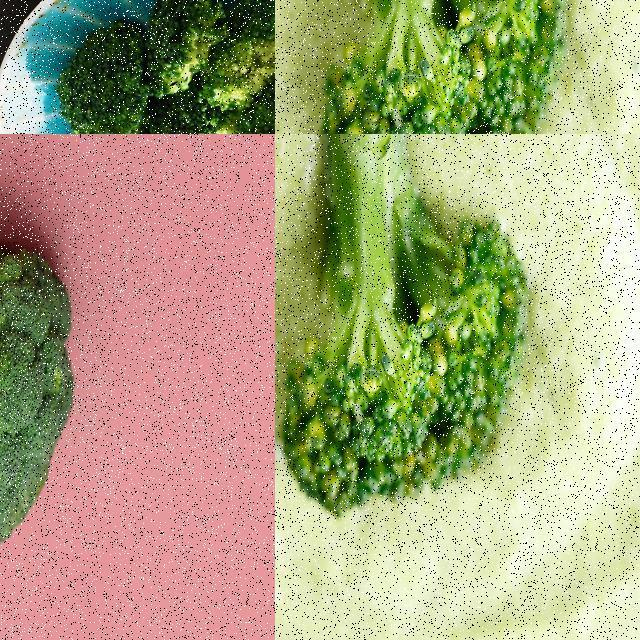broccoli: (275, 134, 534, 519), (0, 148, 85, 585), (313, 0, 573, 133), (56, 16, 154, 133), (188, 0, 274, 112)
